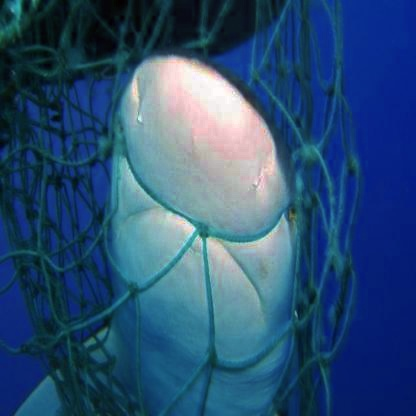net: (0, 8, 112, 331)
